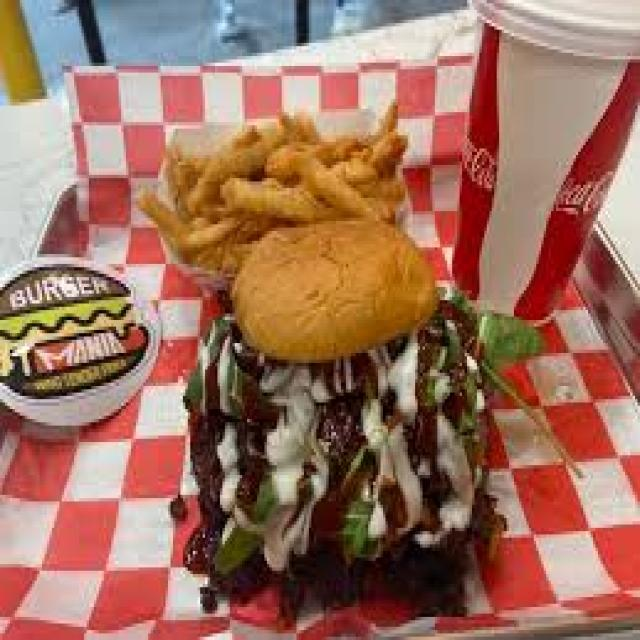Burger: (185, 214, 504, 614)
French Fries: (138, 92, 410, 260)
